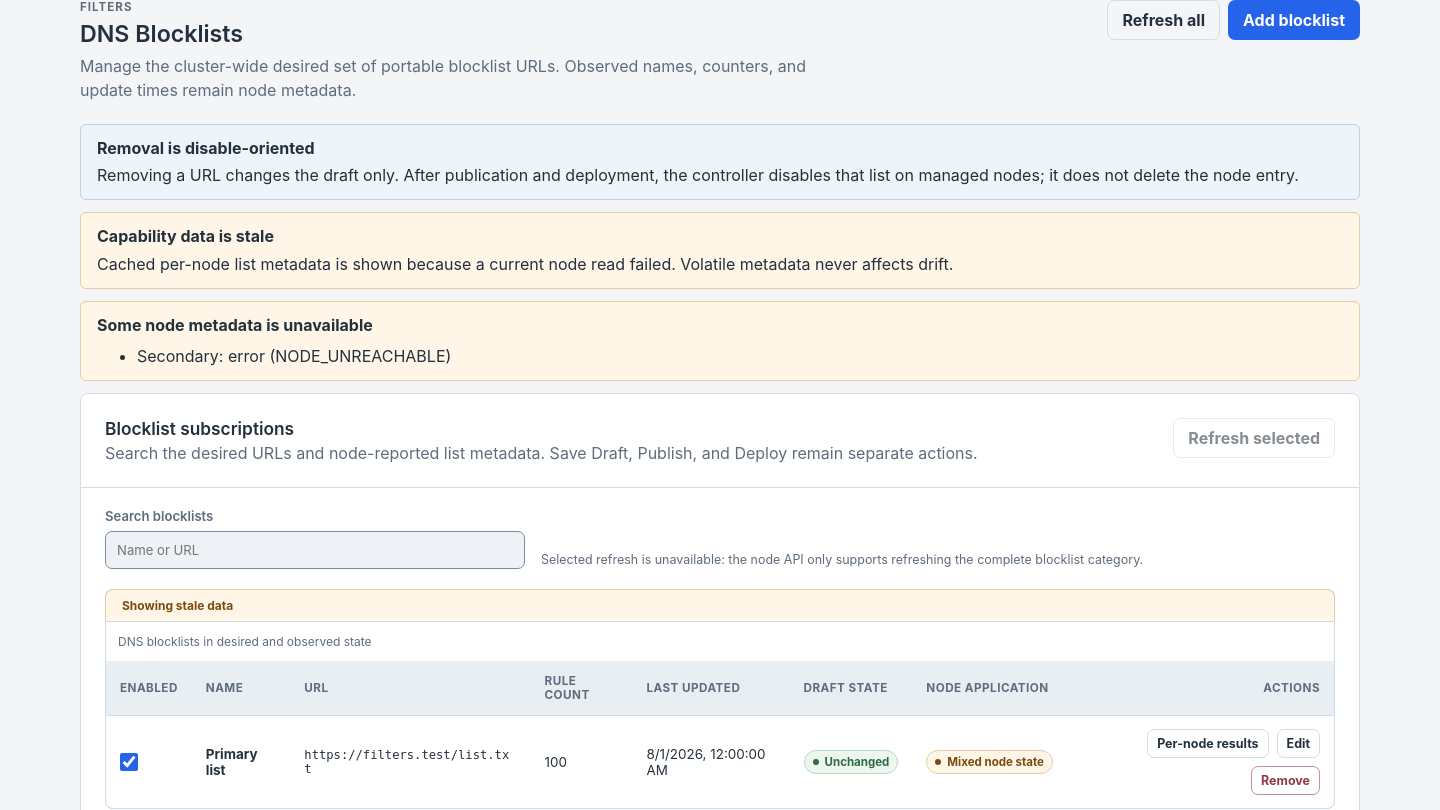
it: DNS blocklists page › renders stale and partial metadata plus keyboard-dismissible dialogs
This screenshot has width=1440, height=810.
Check: the text "Capability data is stale" is shown, box [97,226,274,246]
Check: the text "Some node metadata is unavailable" is shown, box [97,315,373,335]
Click the button "Add blocklist" at x=1294, y=20, box [1228,0,1360,40]
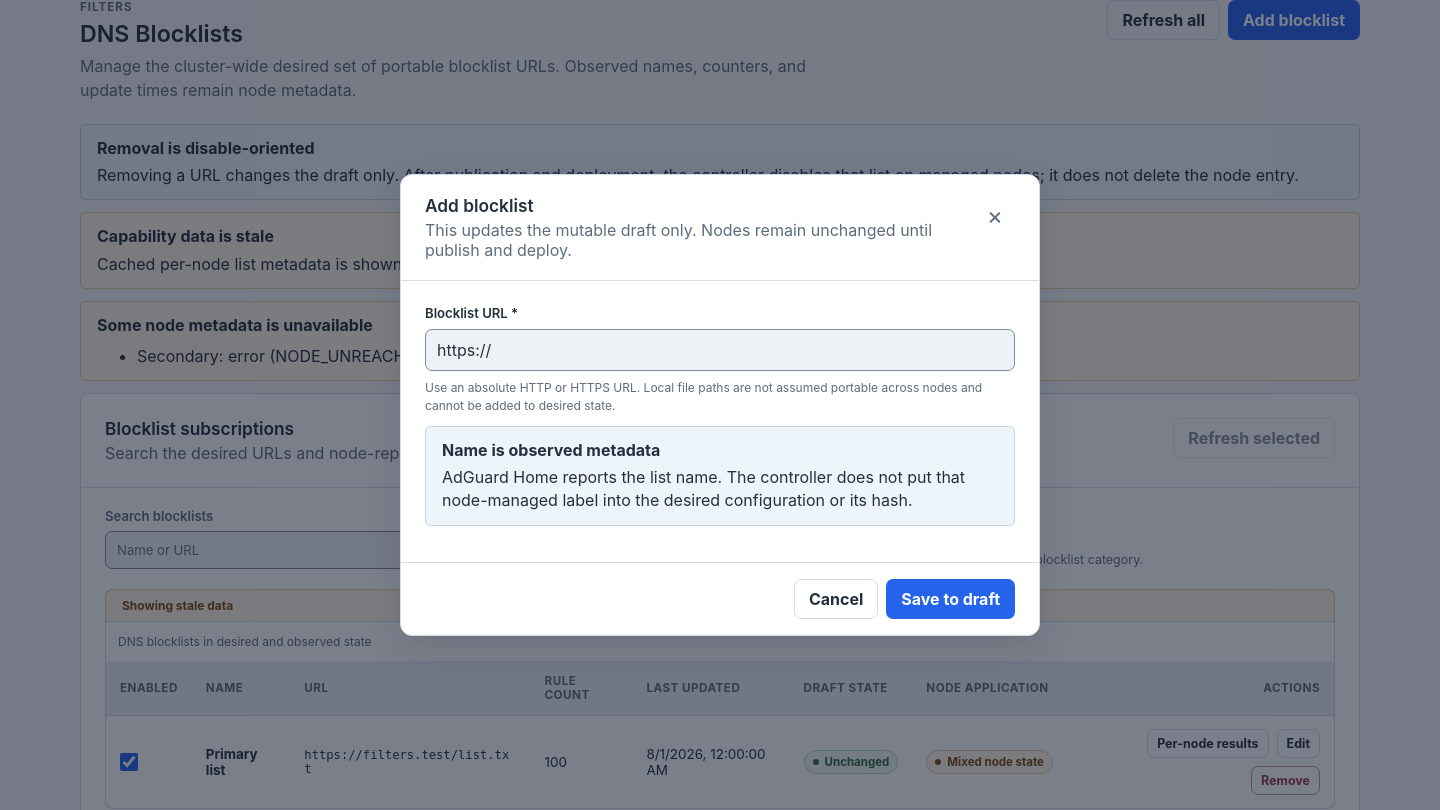
Press Escape in the dialog, box [400,174,1040,636]
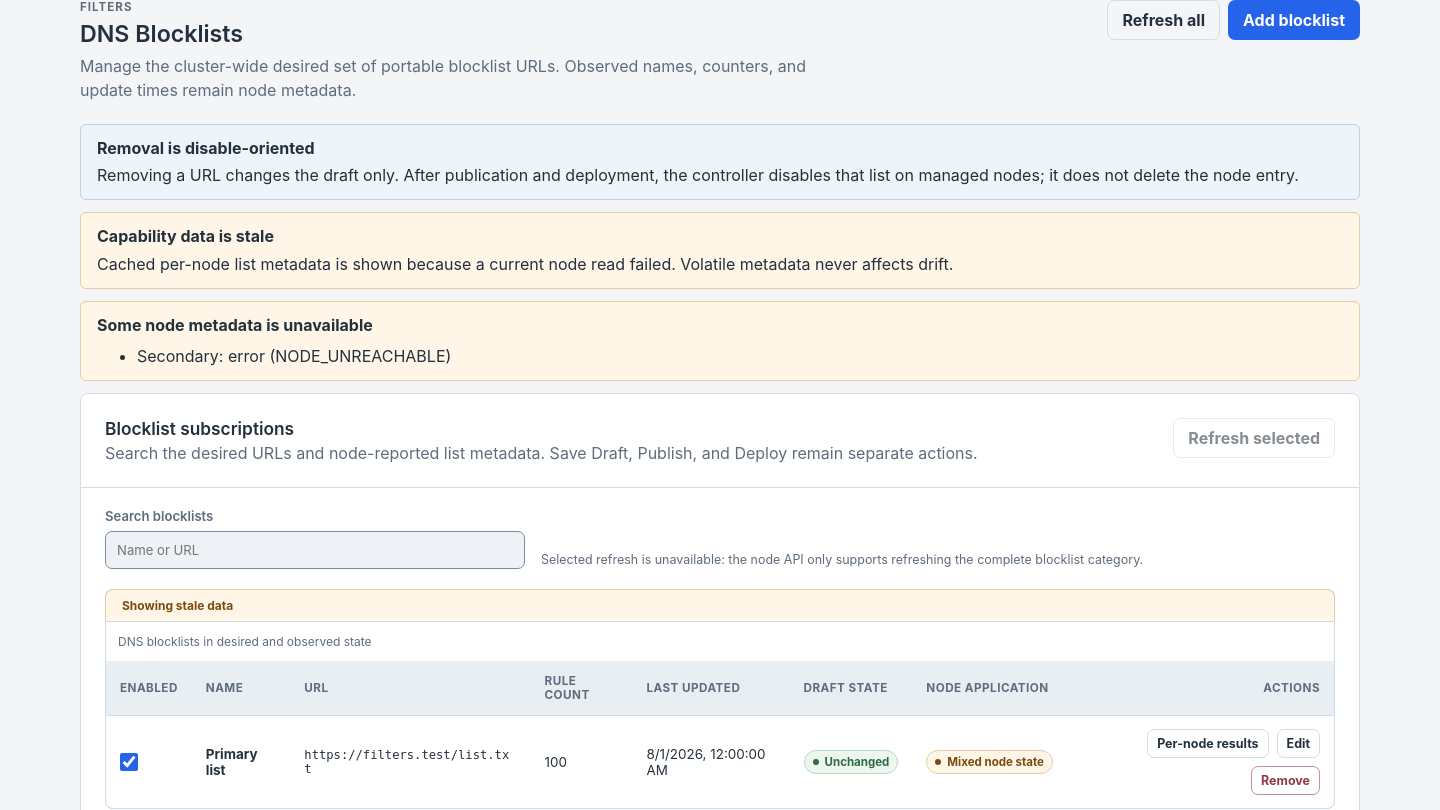
Check: the dialog is gone
